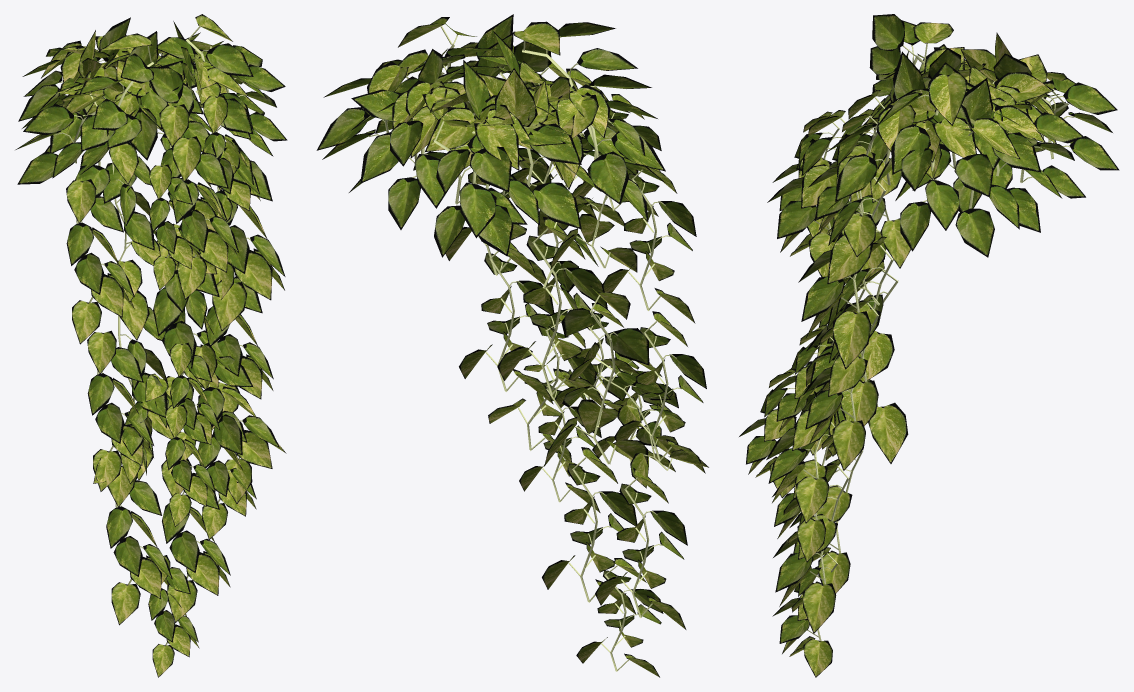
Rendered from railing-plant.glb.
3 renders of one model, left to right at view 1: azimuth 30°, elevation 25°; view 2: azimuth 150°, elevation 25°; view 3: azimuth 270°, elevation 25°, orthographic. The views are drawn at different scales.
Parts seen in each view (by area): view 1: Object_343, Object_367, Object_937, Object_973, Object_41, Object_731, Object_405, Object_389, Object_671, Object_427, Object_73, Object_295 (+97 smaller); view 2: Object_807, Object_961, Object_121, Object_125, Object_135, Object_170, Object_829, Object_965, Object_879, Object_811, Object_853, Object_943 (+27 smaller); view 3: Object_347, Object_291, Object_929, Object_951, Object_193, Object_375, Object_499, Object_955, Object_575, Object_253, Object_1122, Object_1126 (+43 smaller).
Boxes of the visible parts, box(x1,y1,x2,y2) form: Object_343: box(234, 250, 272, 300); Object_367: box(212, 280, 247, 331); Object_937: box(205, 43, 253, 76); Object_973: box(23, 104, 73, 135); Object_41: box(148, 66, 183, 103); Object_731: box(172, 136, 201, 181); Object_405: box(72, 300, 101, 344); Object_389: box(66, 179, 96, 223); Object_671: box(111, 582, 140, 625); Object_427: box(87, 330, 116, 374); Object_73: box(159, 104, 189, 146); Object_295: box(119, 290, 149, 340); Object_807: box(532, 182, 581, 229); Object_961: box(587, 151, 628, 204); Object_121: box(459, 182, 496, 238); Object_125: box(474, 116, 519, 170); Object_135: box(494, 68, 537, 126); Object_170: box(425, 107, 475, 151); Object_829: box(469, 146, 511, 192); Object_965: box(556, 91, 598, 138); Object_879: box(388, 177, 420, 229); Object_811: box(528, 123, 581, 164); Object_853: box(360, 132, 398, 183); Object_943: box(316, 107, 368, 150); Object_347: box(833, 310, 871, 369); Object_291: box(868, 402, 908, 463); Object_929: box(928, 72, 967, 125); Object_951: box(955, 208, 994, 257); Object_193: box(835, 154, 877, 201); Object_375: box(827, 234, 873, 284); Object_499: box(832, 420, 865, 470); Object_955: box(954, 154, 993, 197); Object_575: box(802, 582, 836, 633); Object_253: box(840, 380, 878, 426); Object_1122: box(925, 179, 959, 230); Object_1126: box(932, 117, 976, 157).
Size of the model in its own units: 0.3622 by 0.7715 by 0.4094.
3 materials, 2 textured.
